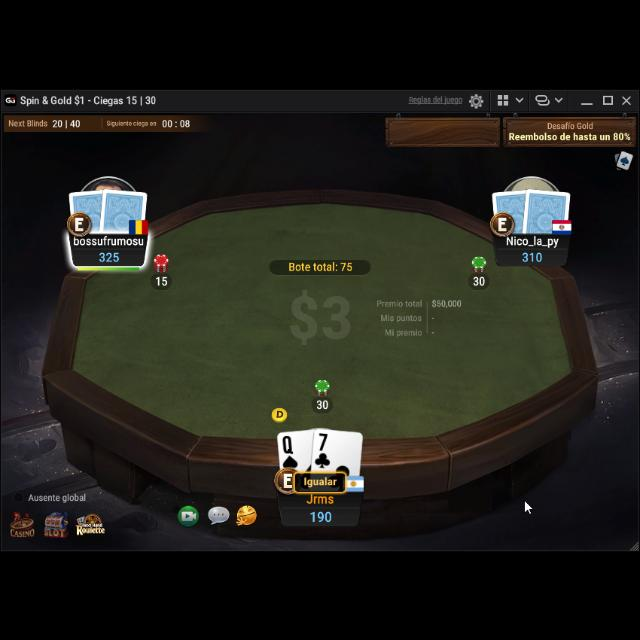7c: (313, 430, 331, 468)
Qs: (281, 433, 299, 471)
bet_text: (314, 396, 330, 410), (155, 274, 169, 286), (472, 274, 486, 286)
card_back: (98, 184, 150, 236), (521, 185, 573, 235), (490, 186, 536, 234), (66, 186, 110, 234)
dealer: (270, 402, 290, 424)
pot_text: (286, 258, 354, 272)
stack_text: (308, 506, 334, 522), (96, 248, 122, 264), (520, 249, 544, 263)
